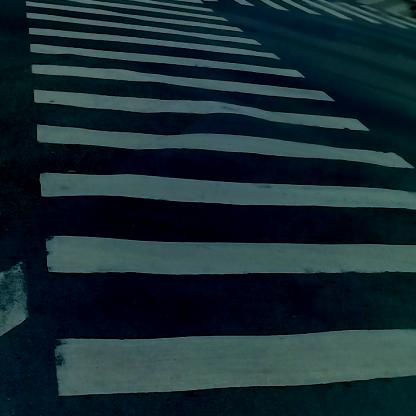crosswalk: (38, 33, 393, 416), (222, 5, 405, 42)
